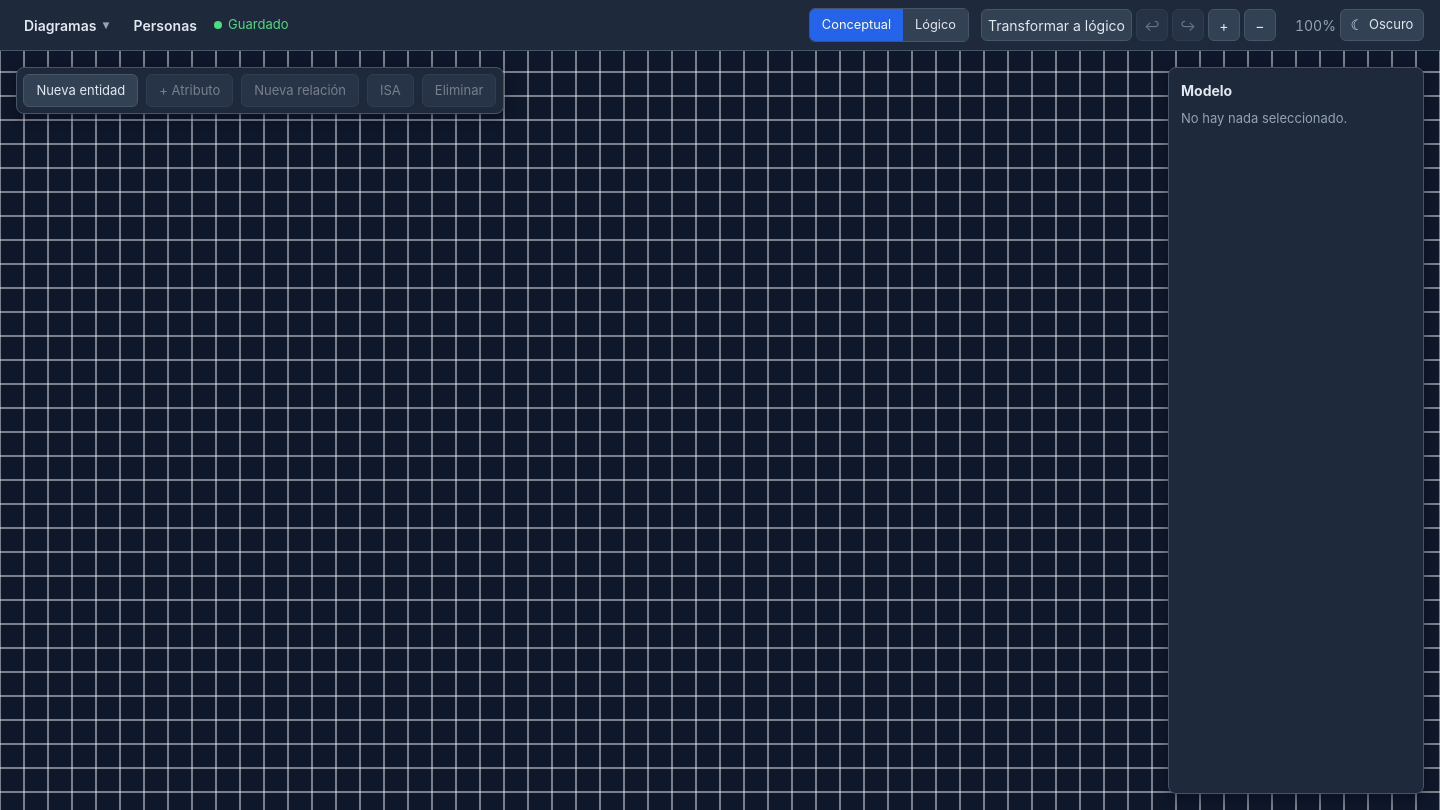
Test: EditorPage › navegar con cambios pendientes persiste y, si falla, bloquea y ofrece descartar (P8.9)
This screenshot has width=1440, height=810.
Click the button "Nueva entidad".
click(81, 91)  # box [23,74,138,107]
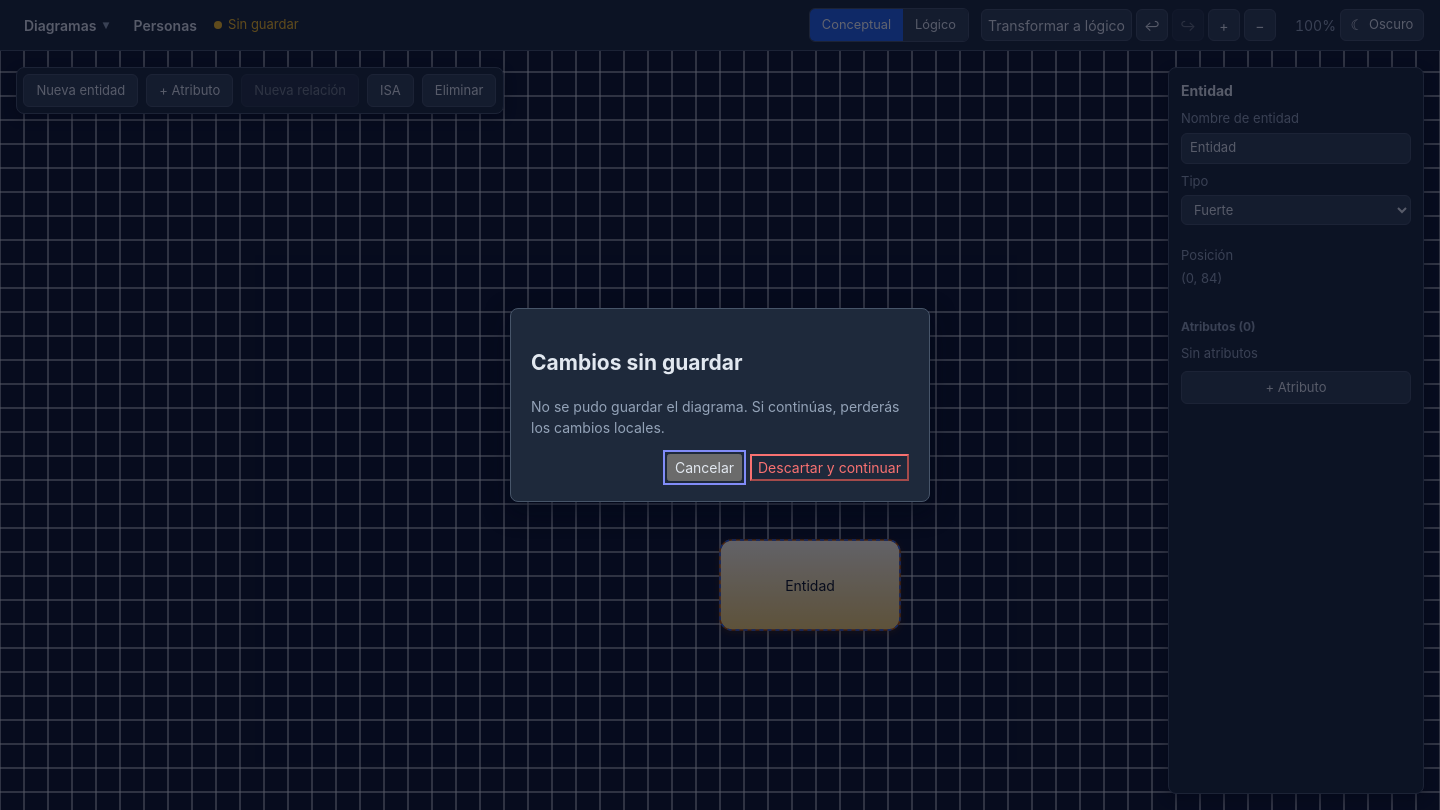
Expected: the text "Página de inicio" is not shown
Expected: the text "Sin guardar" is shown, [228,16,299,32]
Expected: the dialog "Cambios sin guardar" is shown, [510,308,930,502]
Click the button "Cancelar".
click(704, 467)  # box [667,454,742,481]
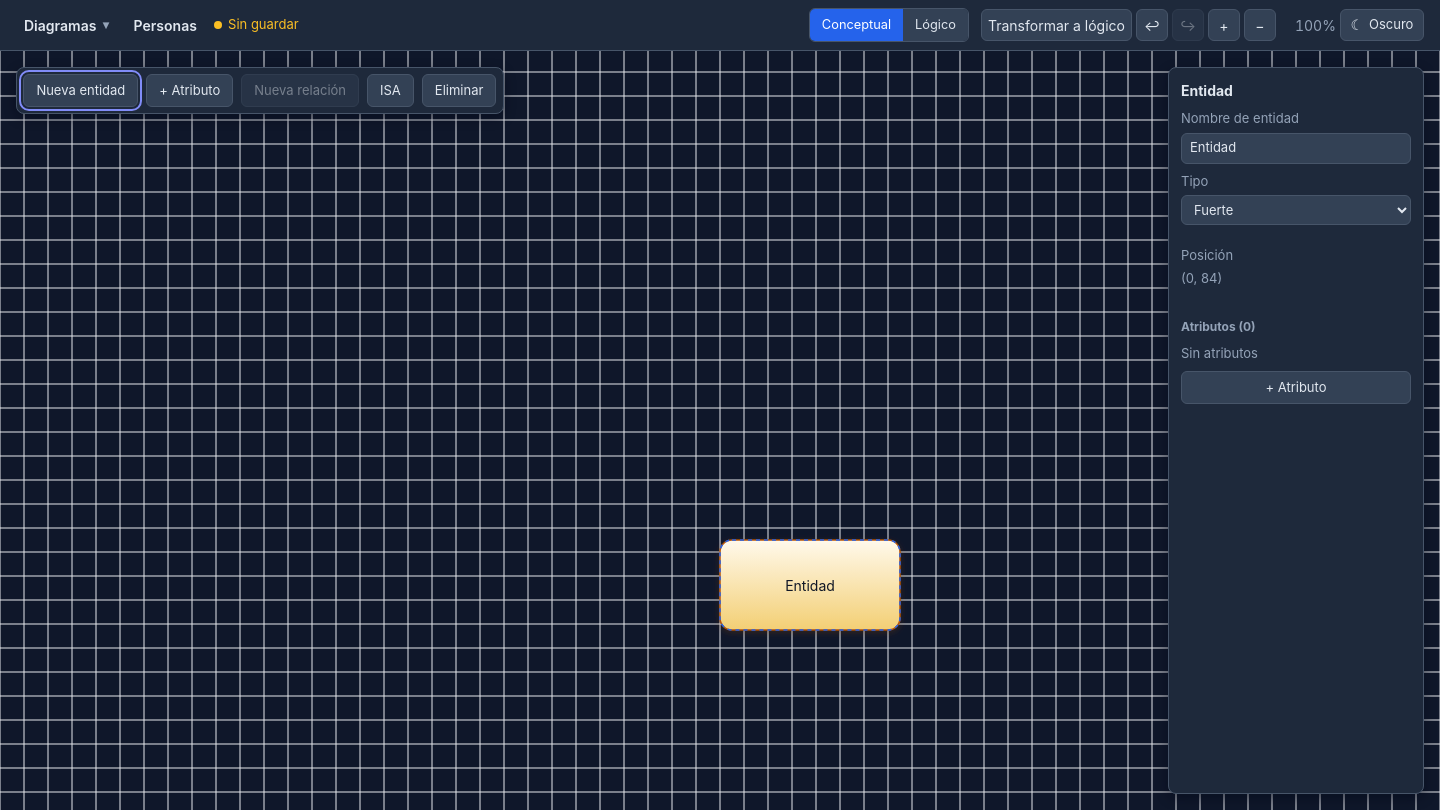
Expected: the text "Página de inicio" is not shown
Expected: the heading "Cambios sin guardar" is gone
